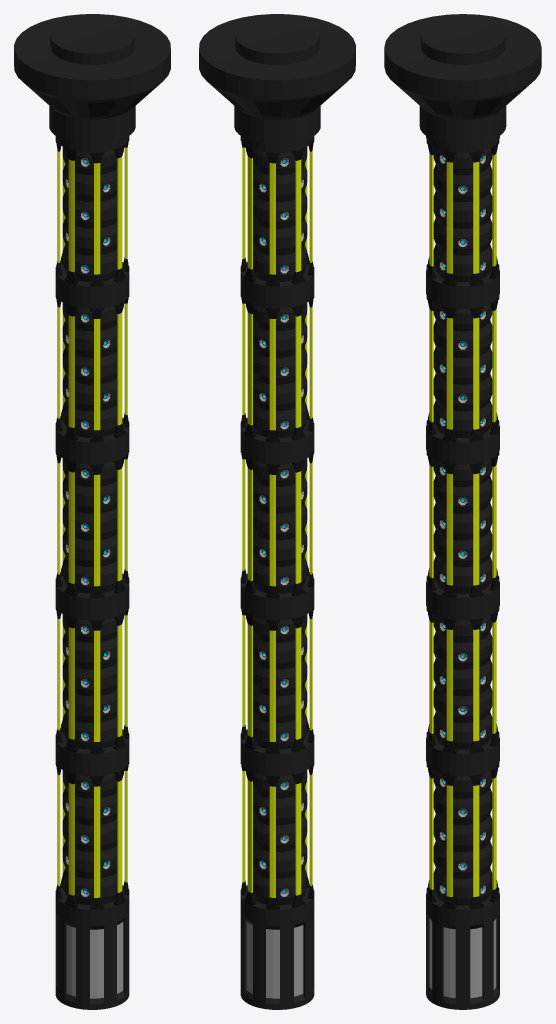
Rendered from SM_BattleshipReactorStack.FBX.
3 renders of one model, left to right at view 1: azimuth 30°, elevation 25°; view 2: azimuth 150°, elevation 25°; view 3: azimuth 270°, elevation 25°, orthographic.
Parts seen in each view (by area): view 1: Object003; view 2: Object003; view 3: Object003.
Part boxes in pixels (x1,y1,x2,y2): Object003: (14, 14, 170, 1009); Object003: (199, 14, 355, 1009); Object003: (384, 14, 541, 1009).
Size of the model in its own units: 2561 by 17226 by 2561.
